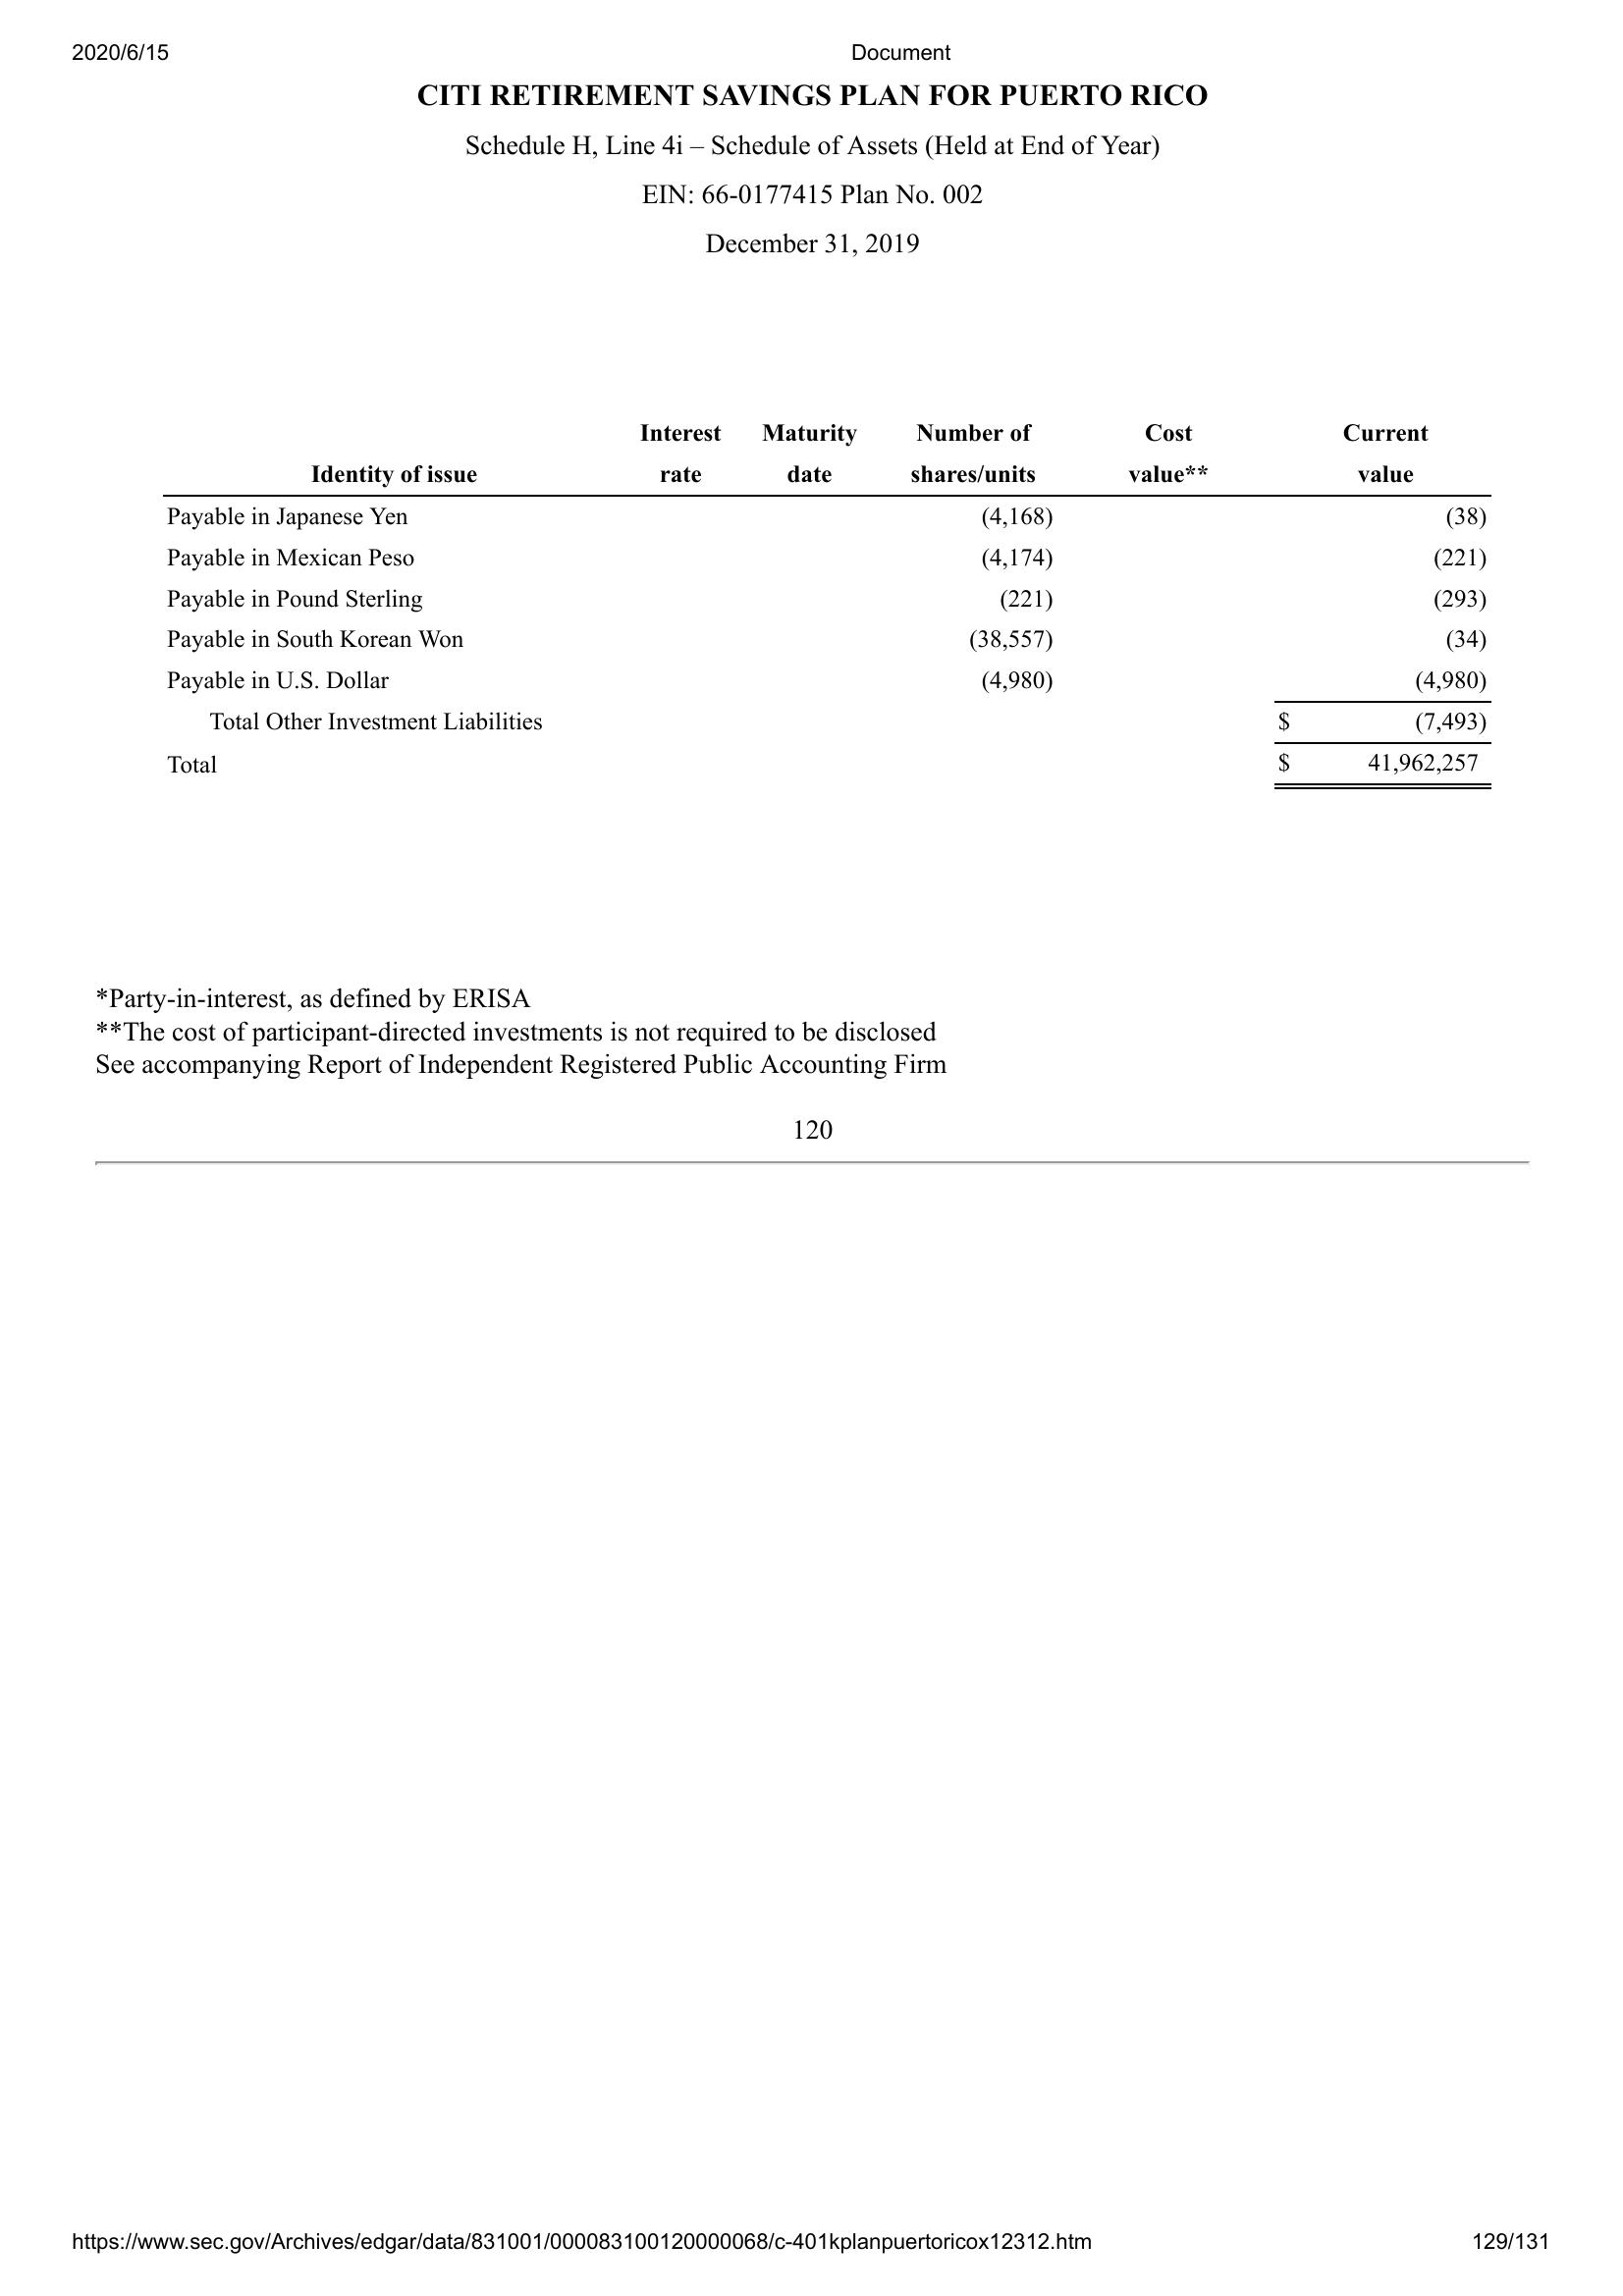table: (160, 421, 1497, 799)
